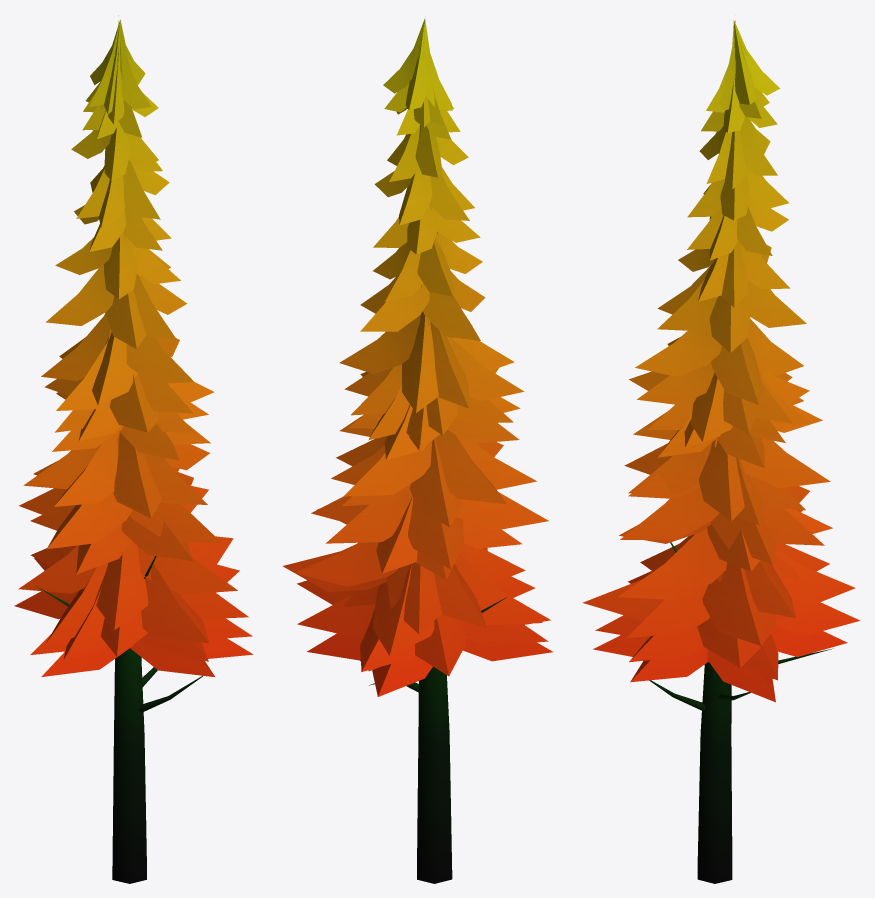
File: pine.obj
The picture shows the model from 3 angles, left to right: view 1: azimuth 30°, elevation 25°; view 2: azimuth 150°, elevation 25°; view 3: azimuth 270°, elevation 25°; orthographic projection.
Visible parts, largest first — view 1: LargePine; view 2: LargePine; view 3: LargePine.
Part boxes in pixels (x1=…): LargePine: x1=14, y1=15, x2=253, y2=883; LargePine: x1=282, y1=16, x2=552, y2=883; LargePine: x1=582, y1=20, x2=860, y2=883.
Bounding box in the file's own units: 7.79 × 27.32 × 8.01.
